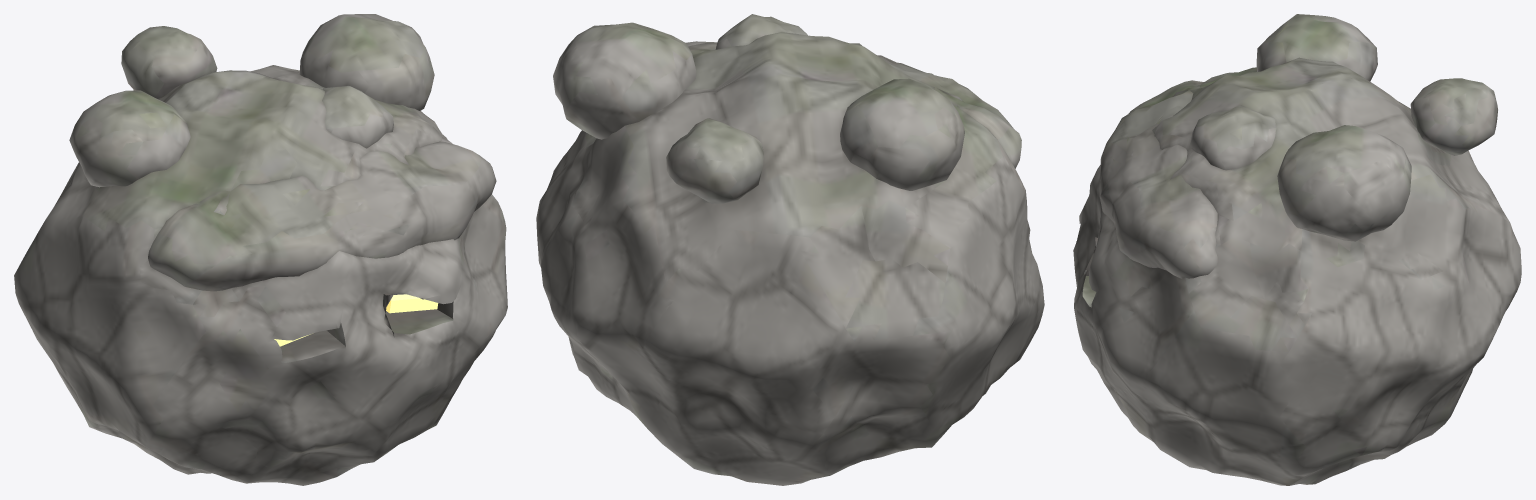
Rendered from boulder.glb.
3 views of the same model, side by side, from view 1: azimuth 30°, elevation 25°; view 2: azimuth 150°, elevation 25°; view 3: azimuth 270°, elevation 25° (orthographic). The views are drawn at different scales.
Parts seen in each view (by area): view 1: stone_grey, glow_fire; view 2: stone_grey; view 3: stone_grey.
Part boxes in pixels (x1,y1,x2,y2): stone_grey: (14,14,507,485); glow_fire: (274,294,438,346); stone_grey: (536,14,1044,485); stone_grey: (1073,14,1521,485).
Size of the model in its own units: 0.4437 by 0.3889 by 0.4044.
Materials: 2 (1 with a texture image).
